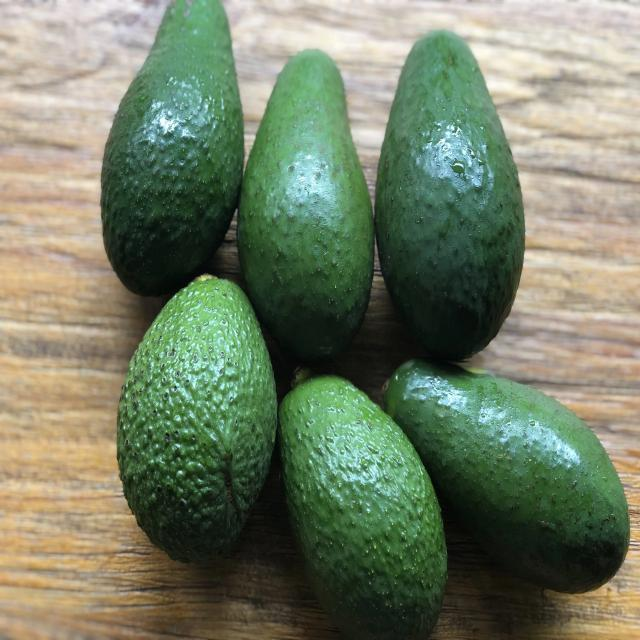avocado: (390, 355, 631, 595), (379, 30, 527, 360), (119, 273, 282, 560), (282, 374, 445, 640), (102, 0, 244, 296), (245, 48, 375, 359)
